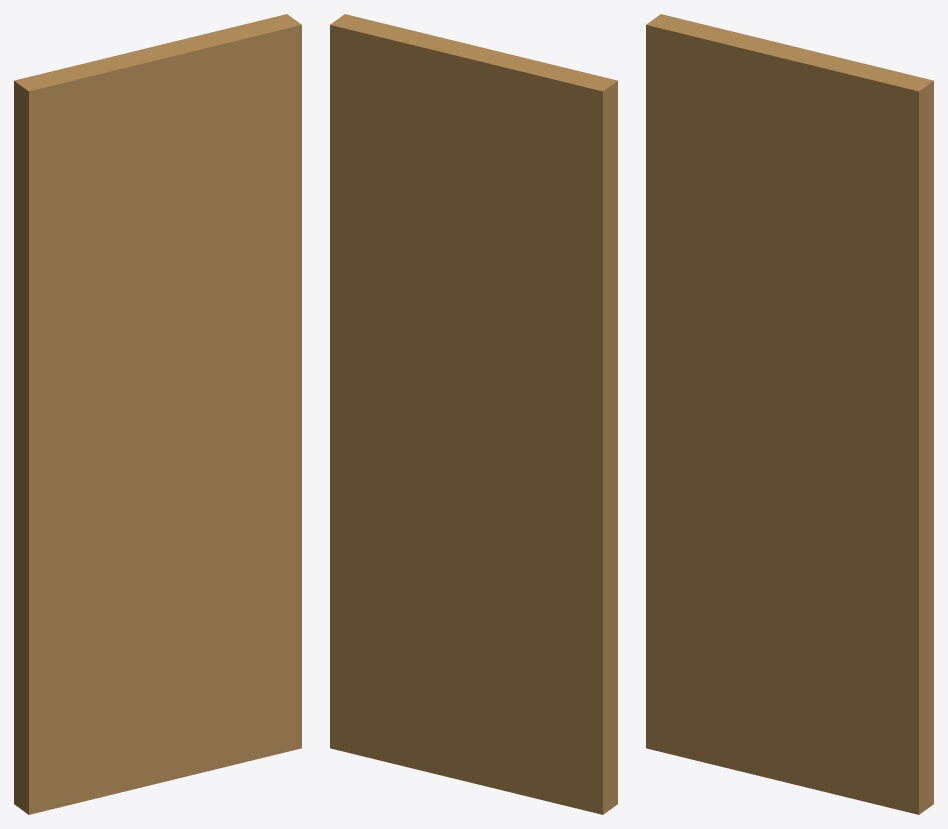
3 views of the same model, side by side, from view 1: azimuth 30°, elevation 25°; view 2: azimuth 150°, elevation 25°; view 3: azimuth 330°, elevation 25° (orthographic).
Visible parts, largest first — view 1: FF-W130; view 2: FF-W130; view 3: FF-W130.
Part boxes in pixels (x1,y1,x2,y2): FF-W130: (14,14,301,814); FF-W130: (330,14,617,814); FF-W130: (646,14,933,814).
Bounding box in the file's own units: 0.956 × 2.42 × 0.09.
